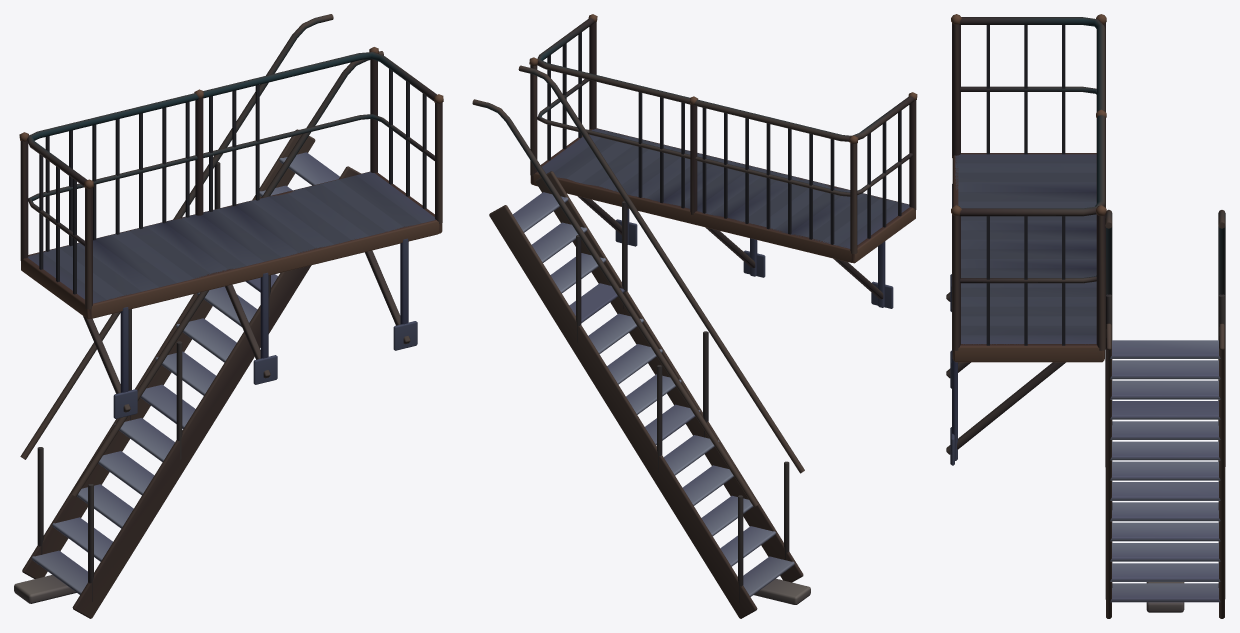
Rendered from escalier_secours.glb.
3 renders of one model, left to right at view 1: azimuth 30°, elevation 25°; view 2: azimuth 150°, elevation 25°; view 3: azimuth 270°, elevation 25°, orthographic. The views are drawn at different scales.
Visible parts, largest first — view 1: escalier_secours; view 2: escalier_secours; view 3: escalier_secours.
Part boxes in pixels (x1,y1,x2,y2): escalier_secours: (14, 14, 443, 618); escalier_secours: (472, 14, 917, 618); escalier_secours: (946, 14, 1225, 618).
Size of the model in its own units: 3.14 by 4.15 by 1.85.
